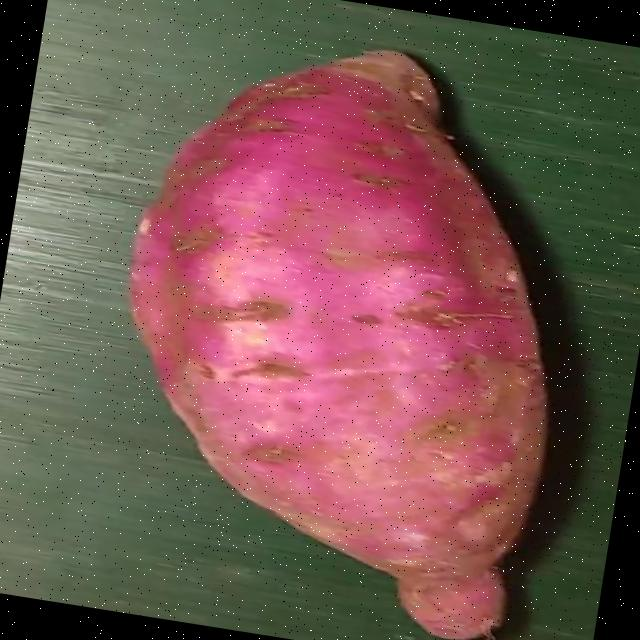Sweet Potato: (127, 49, 551, 640)
